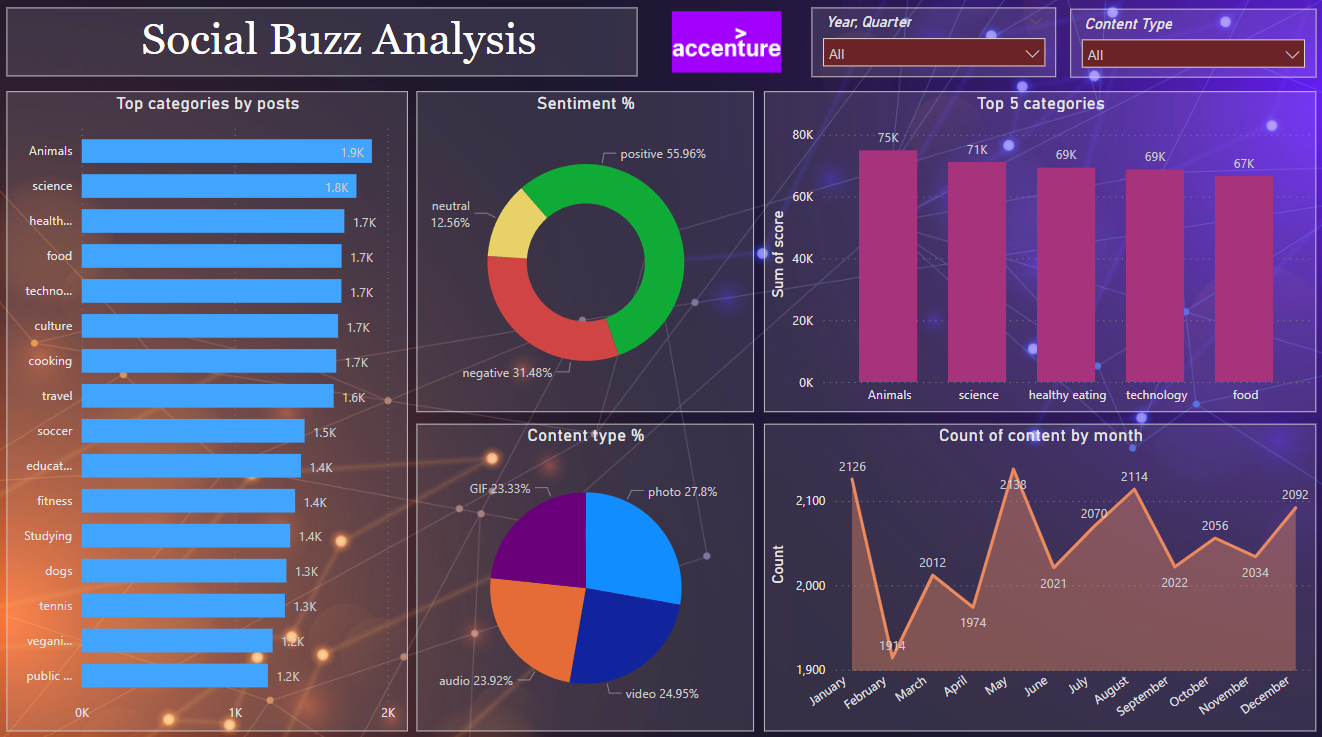

Layout of this report page (visuals, bound fields, positions):
{"tool":"powerbi","page":{"name":"Page 1","canvas":[1280,720],"ordinal":0},"visuals":[{"type":"textbox","box":[7.2,12.1,609,66.3],"z":0},{"type":"clusteredColumnChart","title":"Top 5 categories","fields":{"Y":["Sum(Top 5 category.Score)"],"Category":["Top 5 category.Top 5 categories"]},"box":[738.1,92.9,533.1,309.9],"z":1000},{"type":"barChart","title":"Top categories by posts","fields":{"Category":["Cleaned Data.Category"],"Y":["CountNonNull(Cleaned Data.Content ID)"]},"box":[7.2,92.9,387.1,617.5],"z":2000},{"type":"areaChart","title":"Count of content by month","fields":{"Category":["Cleaned Data.Datetime.Variation.Date Hierarchy.Month"],"Y":["CountNonNull(Cleaned Data.Count)"]},"box":[738.1,413.7,533.1,296.7],"z":3000},{"type":"pieChart","title":"Content type %","fields":{"Y":["Sum(Cleaned Data.Count)"],"Category":["Cleaned Data.Content Type"]},"box":[402.8,413.7,325.6,296.7],"z":4000},{"type":"donutChart","title":"Sentiment %","fields":{"Y":["Sum(Cleaned Data.Count)"],"Category":["Cleaned Data.Sentiment"]},"box":[402.8,92.9,325.6,309.9],"z":5000},{"type":"image","box":[640.4,10.9,123,68.7],"z":6000},{"type":"slicer","fields":{"Values":["Cleaned Data.Content Type"]},"box":[1033.6,13.3,237.6,66.3],"z":7000},{"type":"slicer","fields":{"Values":["Cleaned Data.Datetime.Variation.Date Hierarchy.Year","Cleaned Data.Datetime.Variation.Date Hierarchy.Quarter"]},"box":[783.9,12.1,236.4,67.5],"z":8000}]}

Visuals, with their boxes in screenshot pixels (x1, y1, x2, y2), scaled from the page's 1280x720 canvas onto the 1322x737 screenshot:
textbox: x1=7, y1=12, x2=636, y2=80
"Top 5 categories" clusteredColumnChart: x1=762, y1=95, x2=1313, y2=412
"Top categories by posts" barChart: x1=7, y1=95, x2=407, y2=727
"Count of content by month" areaChart: x1=762, y1=423, x2=1313, y2=727
"Content type %" pieChart: x1=416, y1=423, x2=752, y2=727
"Sentiment %" donutChart: x1=416, y1=95, x2=752, y2=412
image: x1=661, y1=11, x2=788, y2=81
slicer - Cleaned Data.Content Type: x1=1068, y1=14, x2=1313, y2=81
slicer - Cleaned Data.Datetime.Variation.Date Hierarchy.Year x Cleaned Data.Datetime.Variation.Date Hierarchy.Quarter: x1=810, y1=12, x2=1054, y2=81
